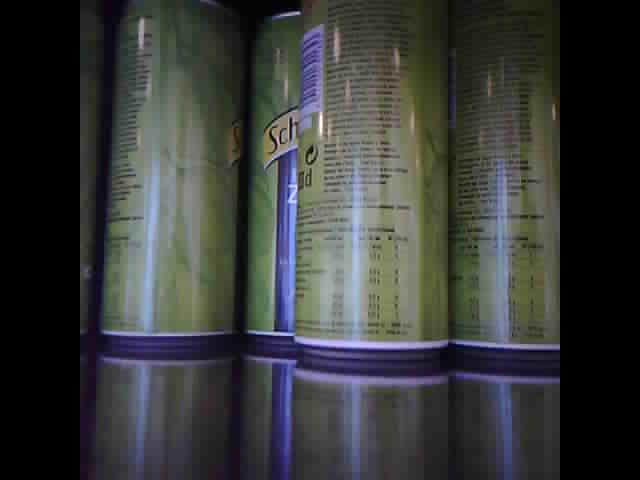schweppes: (290, 13, 450, 354), (101, 1, 239, 340), (454, 1, 561, 356), (238, 5, 302, 347)
